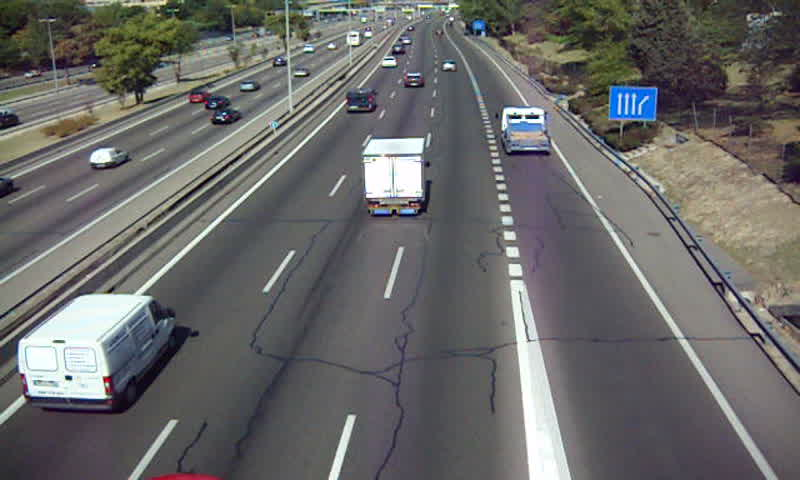car: (402, 72, 426, 91), (380, 55, 397, 70), (441, 60, 458, 72)
small-truck: (363, 138, 428, 214), (500, 106, 550, 151)
van: (17, 295, 176, 412), (344, 88, 376, 110)
